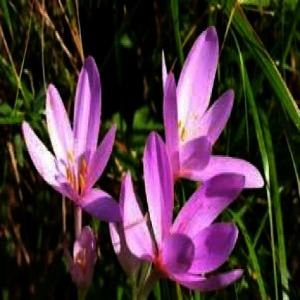Saffron: (120, 131, 246, 291), (161, 23, 265, 189), (21, 57, 125, 222)
